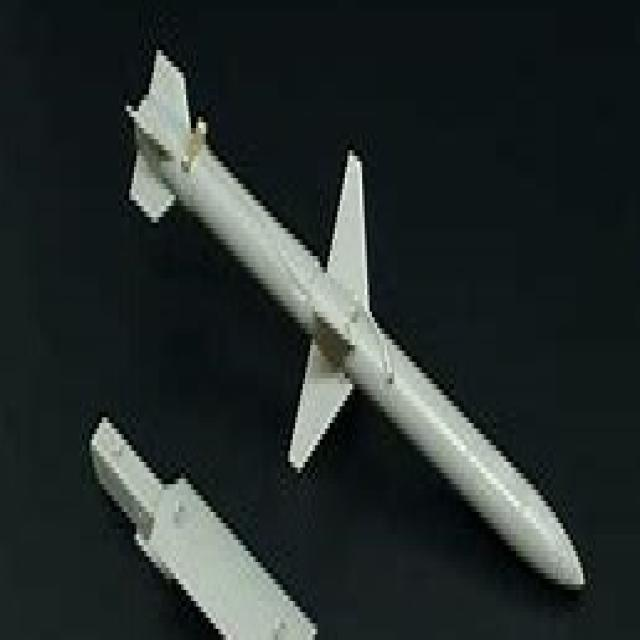missile: (126, 52, 590, 597)
